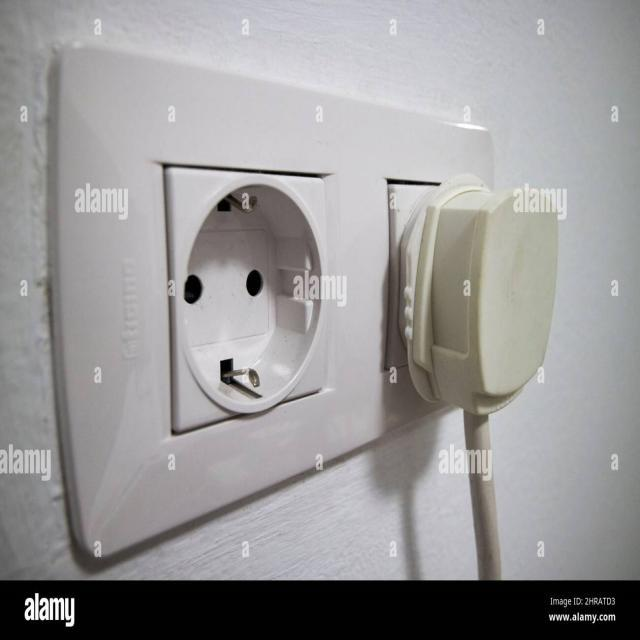typeb: (28, 41, 596, 543)
